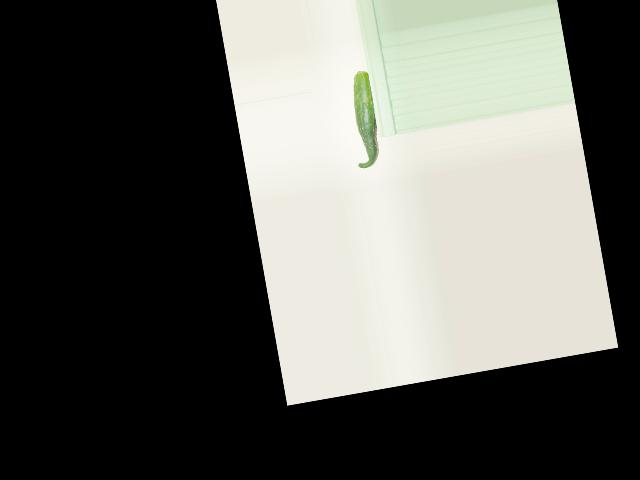cucumber: (342, 70, 384, 169)
